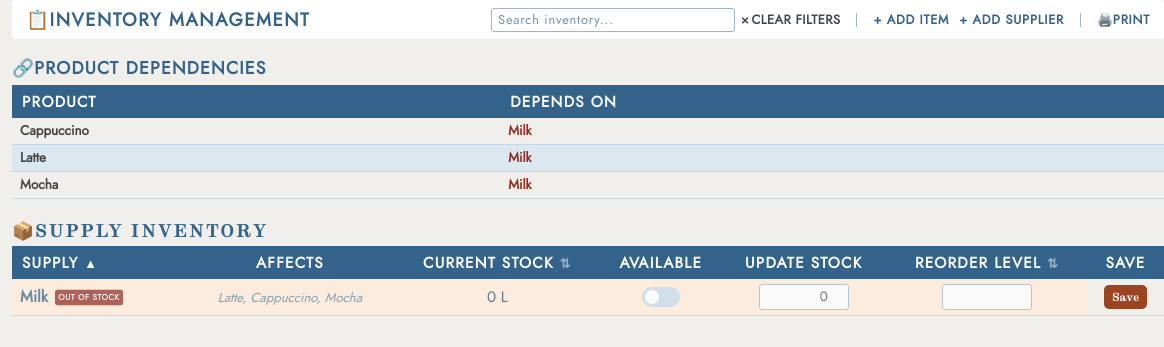
Scenario: AdminInventoryPage › toggling an unavailable ingredient on prompts for quantity entry instead of saving immediately
This screenshot has width=1164, height=347.
Click the checkbox named "toggle milk availability" at (661, 297), box [642,287,680,307]
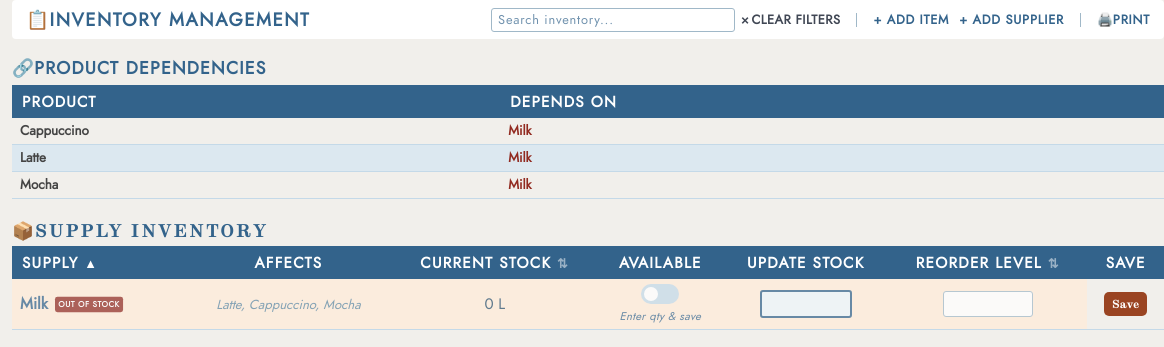
Now the text "Enter qty & save" is shown, box [620,308,701,324]
